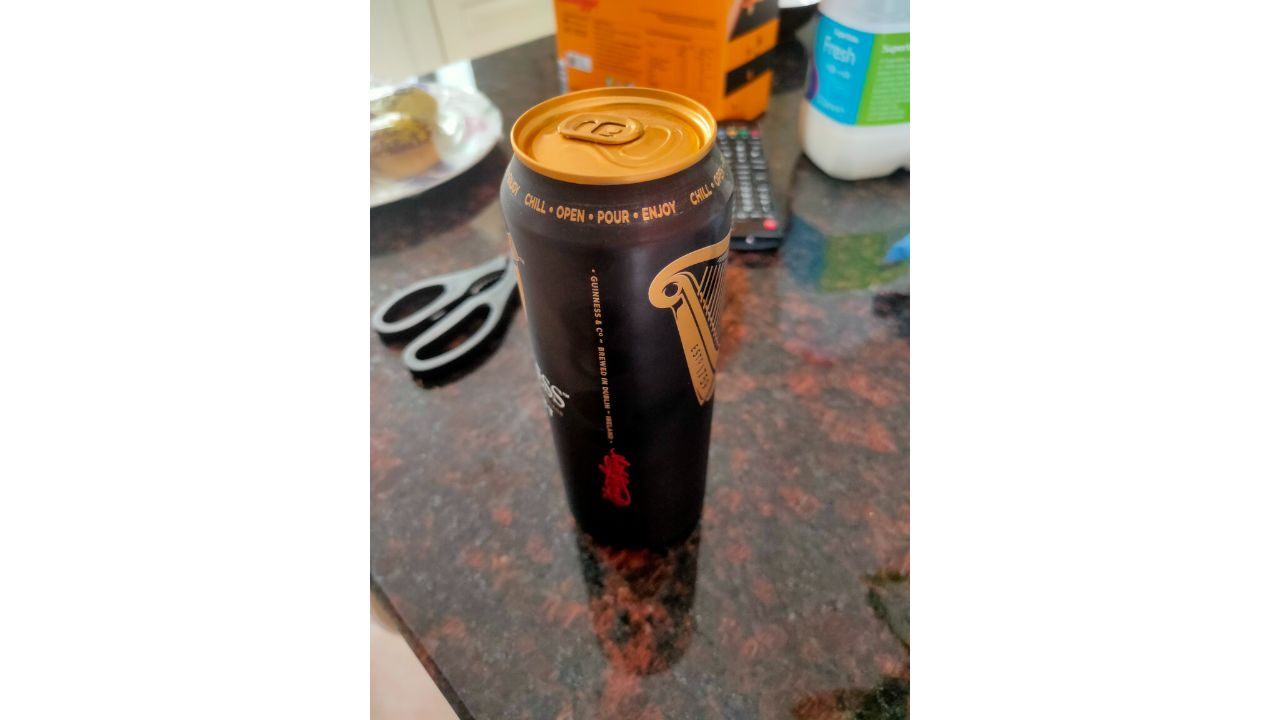Can: (499, 81, 742, 555)
